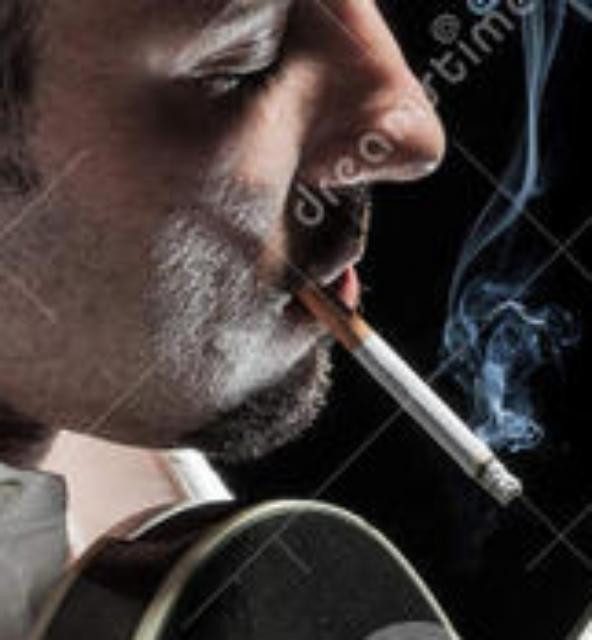Cigarette: (293, 276, 527, 510)
